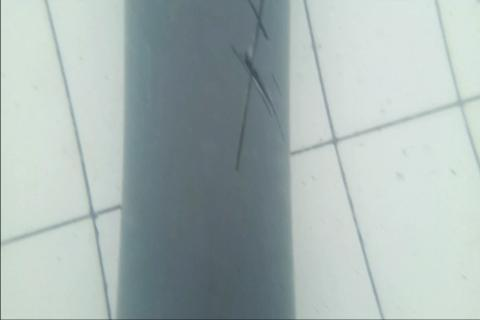keretakan: (229, 0, 284, 171)
